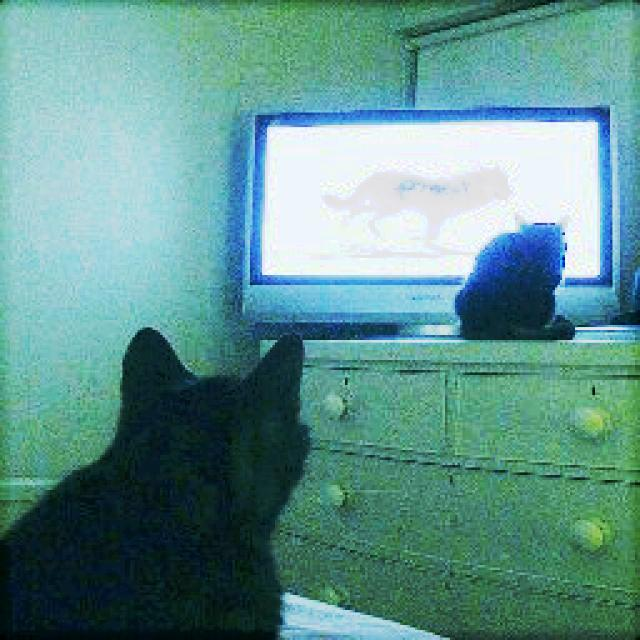cat: (0, 310, 348, 640), (452, 205, 592, 352)
